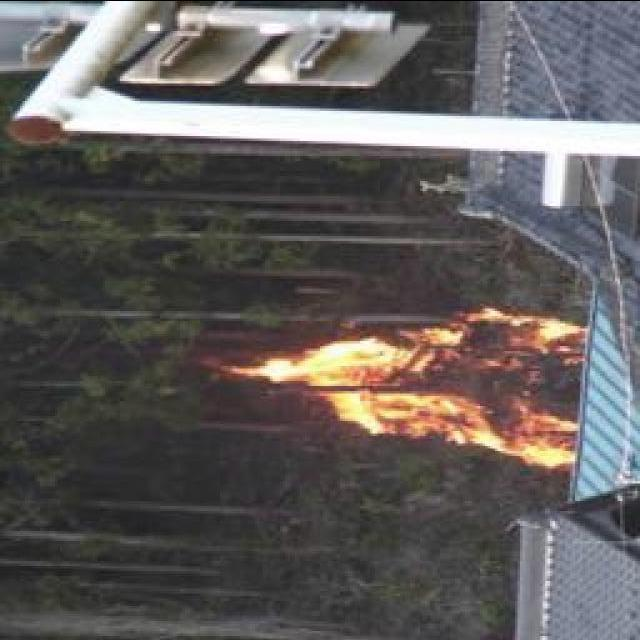Fire: (267, 310, 583, 449)
